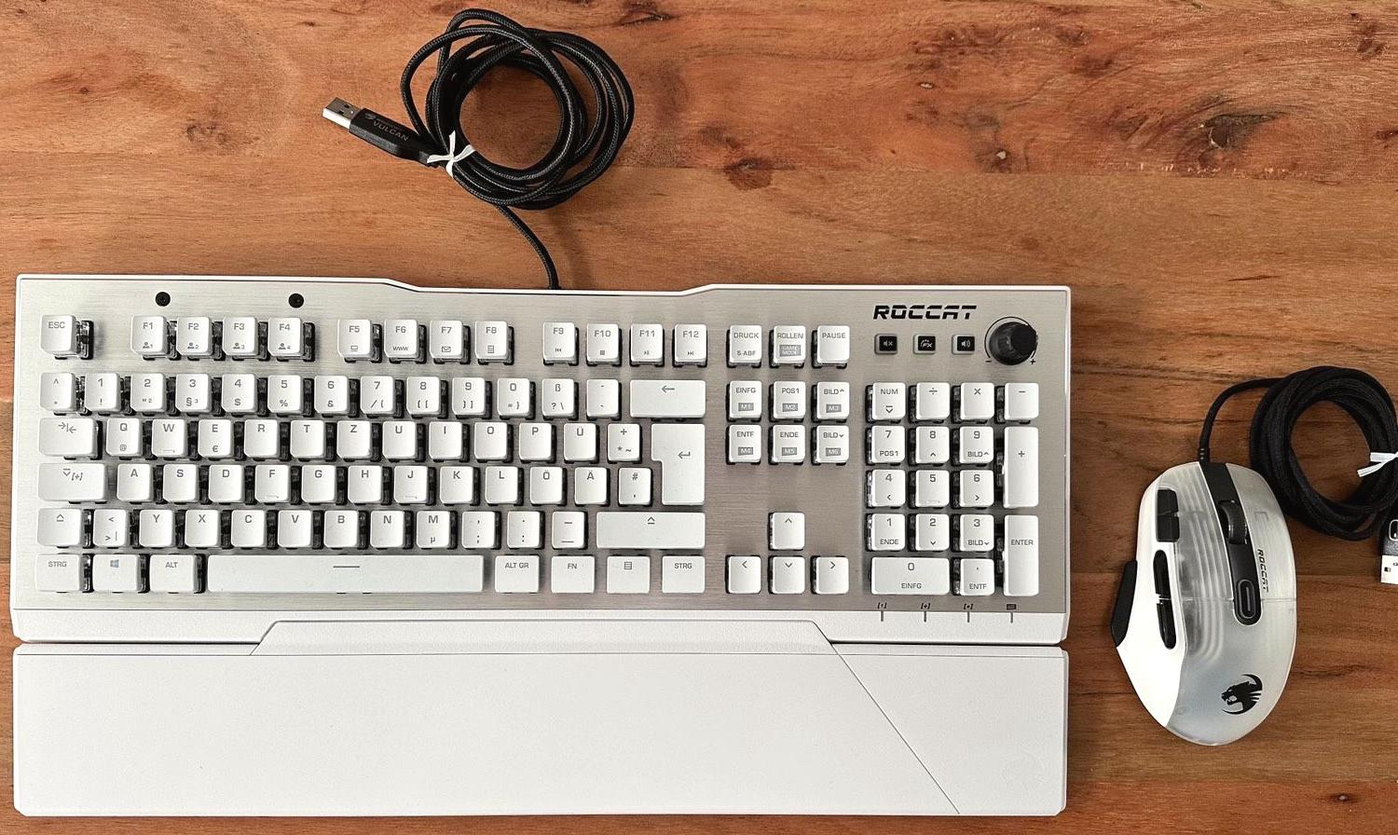0: (494, 373, 530, 414)
1: (81, 368, 117, 408)
2: (127, 369, 163, 409)
3: (172, 369, 209, 410)
4: (218, 369, 254, 409)
5: (266, 370, 301, 410)
6: (312, 371, 349, 411)
7: (358, 371, 394, 412)
8: (404, 371, 440, 412)
9: (448, 372, 486, 413)
a: (115, 459, 150, 499)
accent: (582, 375, 617, 414)
ae: (571, 462, 606, 502)
alt-left: (145, 550, 196, 591)
altgr-right: (490, 551, 540, 591)
b: (321, 505, 357, 544)
c: (228, 504, 265, 544)
caret: (38, 368, 71, 406)
comma: (459, 506, 494, 545)
d: (206, 459, 241, 500)
del: (625, 375, 705, 415)
e: (195, 415, 231, 455)
enter: (648, 417, 705, 503)
f: (253, 460, 287, 500)
g: (298, 460, 335, 500)
h: (346, 460, 381, 500)
hash: (615, 463, 650, 503)
i: (426, 417, 460, 455)
j: (391, 460, 427, 500)
k: (437, 461, 473, 500)
keyboard: (14, 275, 1069, 636)
l: (482, 461, 517, 500)
less: (90, 504, 126, 545)
m: (413, 506, 449, 546)
minus: (548, 507, 583, 545)
n: (367, 506, 404, 545)
o: (471, 417, 506, 456)
oe: (526, 461, 562, 501)
p: (515, 418, 551, 457)
plus: (604, 419, 639, 459)
point: (503, 507, 540, 545)
q: (103, 414, 139, 453)
r: (241, 415, 278, 454)
s: (159, 459, 196, 499)
shift-left: (34, 504, 80, 543)
shift-lock: (35, 459, 105, 499)
shift-right: (592, 507, 705, 546)
space: (202, 550, 485, 593)
ss: (538, 374, 574, 415)
strg-left: (32, 550, 80, 590)
strg-right: (658, 552, 706, 592)
t: (288, 416, 322, 455)
tab: (36, 414, 93, 452)
u: (379, 416, 415, 455)
ue: (560, 418, 596, 458)
v: (275, 505, 311, 544)
w: (149, 414, 184, 455)
x: (182, 504, 217, 544)
y: (136, 505, 171, 544)
z: (334, 416, 369, 455)
